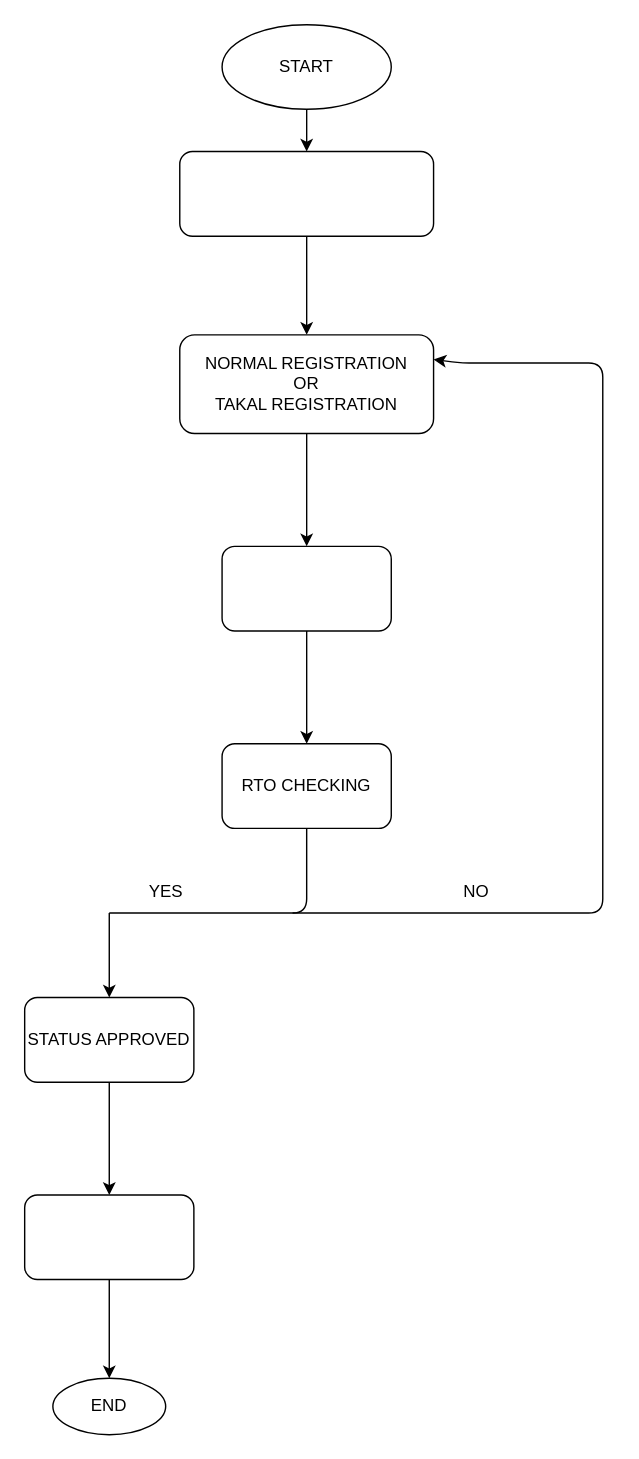
This 639x1459 diagram has some shape labels left out. Here are the shapes that lost their labels. From the top down, the centre of each, then its label:
(306,193): USER REGISTRATION
(306,588): PAYMENT PROCESS
(108,1237): CHECKPOST VERIFICATION
